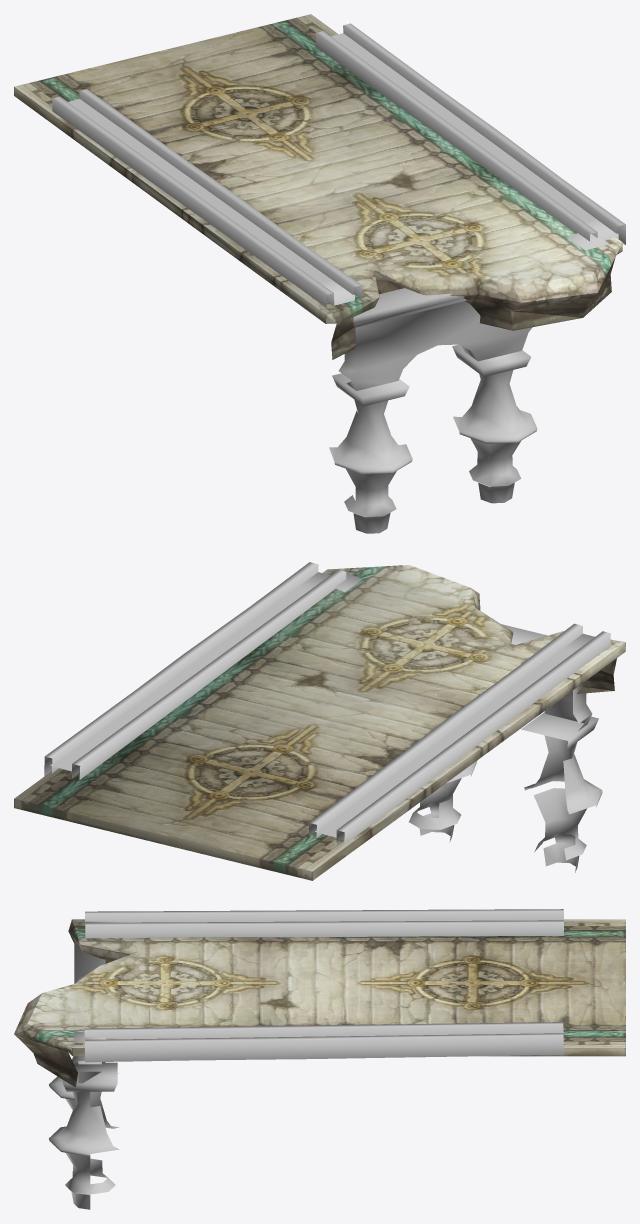
File: S_Build_City118_A.FBX
The picture shows the model from 3 angles, top to bottom: view 1: azimuth 30°, elevation 25°; view 2: azimuth 150°, elevation 25°; view 3: azimuth 270°, elevation 25°; orthographic projection. The views are drawn at different scales.
Visible parts, largest first — view 1: S_Build_City118_001, S_Build_City119_001, S_Build_City106_002, S_Build_City106_001; view 2: S_Build_City118_001, S_Build_City106_002, S_Build_City106_001, S_Build_City119_001; view 3: S_Build_City118_001, S_Build_City106_001, S_Build_City106_002, S_Build_City119_001.
Part boxes in pixels (left/top/right/bottom): S_Build_City118_001: left=14, top=14, right=622, bottom=359; S_Build_City119_001: left=329, top=233, right=609, bottom=533; S_Build_City106_002: left=52, top=89, right=362, bottom=306; S_Build_City106_001: left=315, top=23, right=625, bottom=244; S_Build_City118_001: left=14, top=565, right=625, bottom=880; S_Build_City106_002: left=309, top=623, right=610, bottom=844; S_Build_City106_001: left=44, top=562, right=346, bottom=779; S_Build_City119_001: left=335, top=572, right=602, bottom=872; S_Build_City118_001: left=14, top=919, right=625, bottom=1087; S_Build_City106_001: left=84, top=1022, right=563, bottom=1062; S_Build_City106_002: left=85, top=909, right=563, bottom=938; S_Build_City119_001: left=49, top=942, right=119, bottom=1209.
Bounding box in the file's own units: 155493 × 119696 × 301585.
